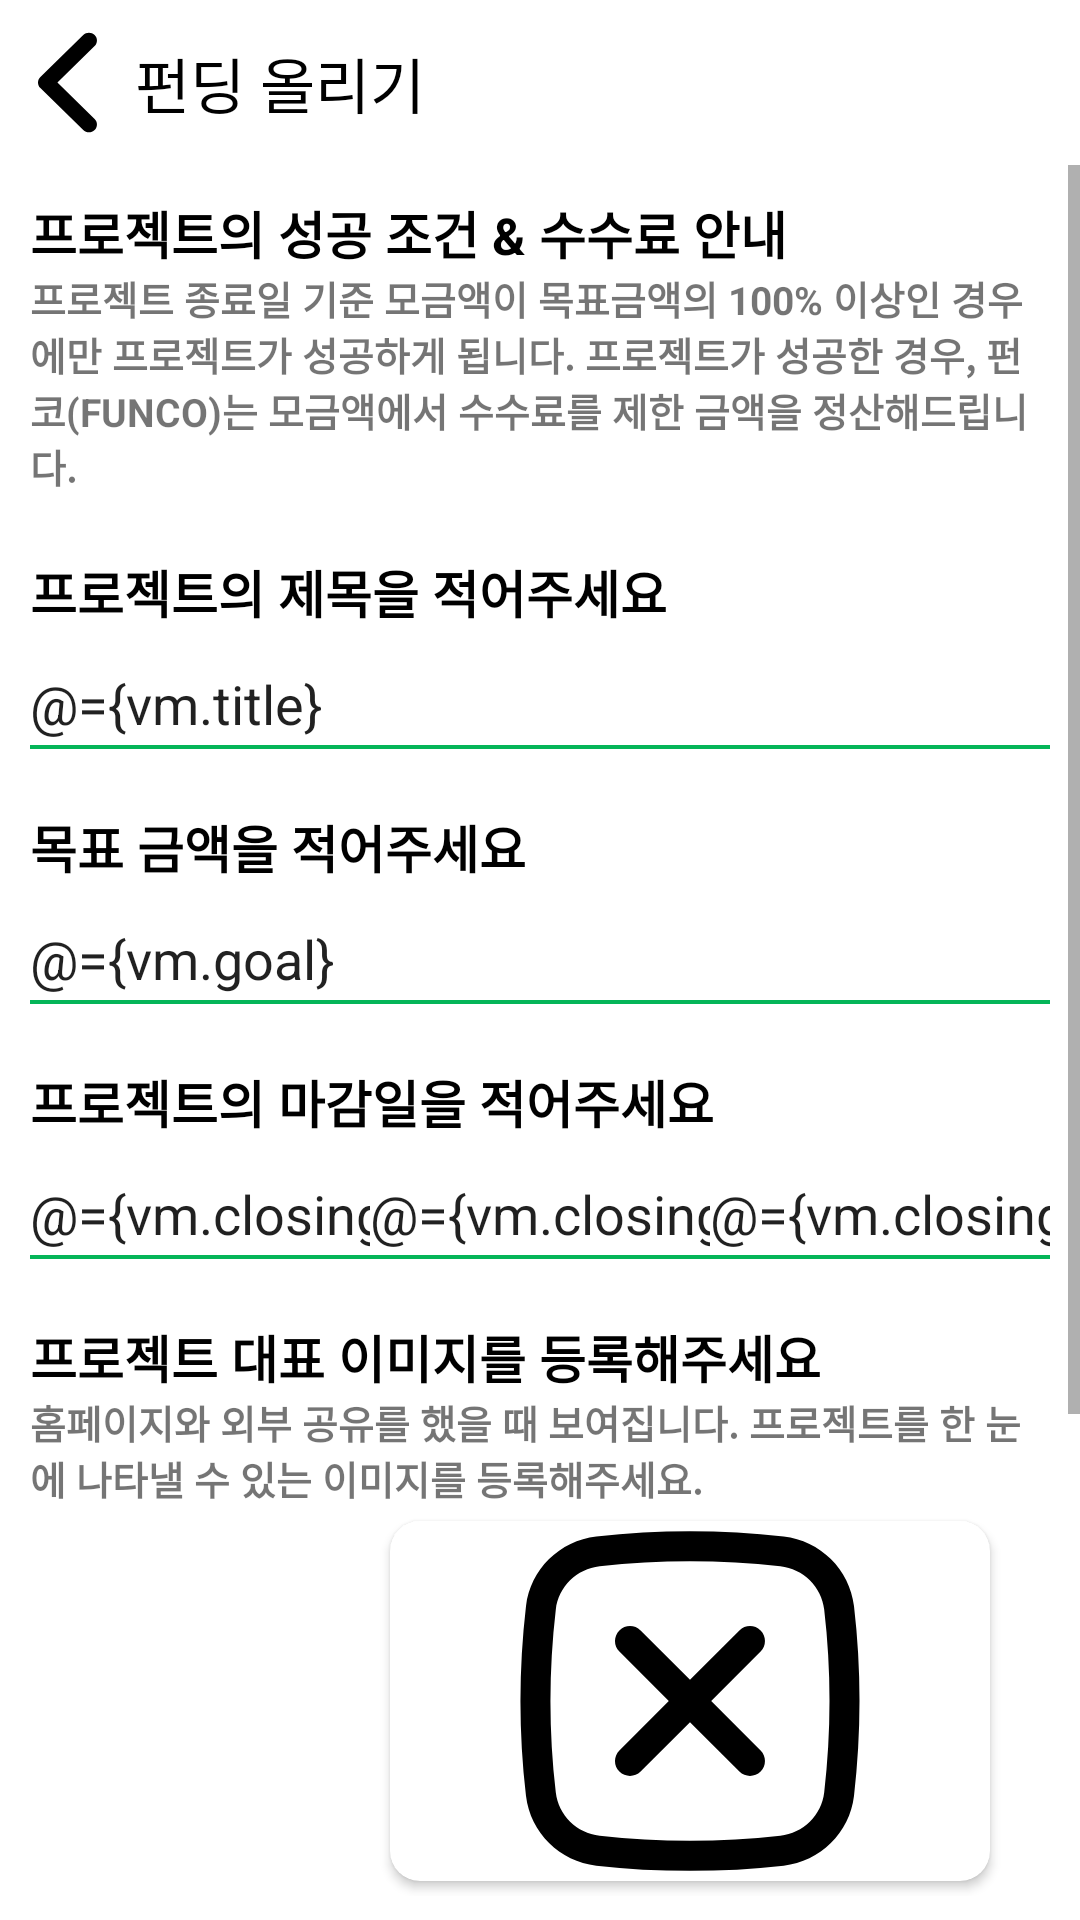

Screen size 1080w x 1920h. Icon name, then its center in pixels as (x=x, y=y):
back: (x=67, y=82)
